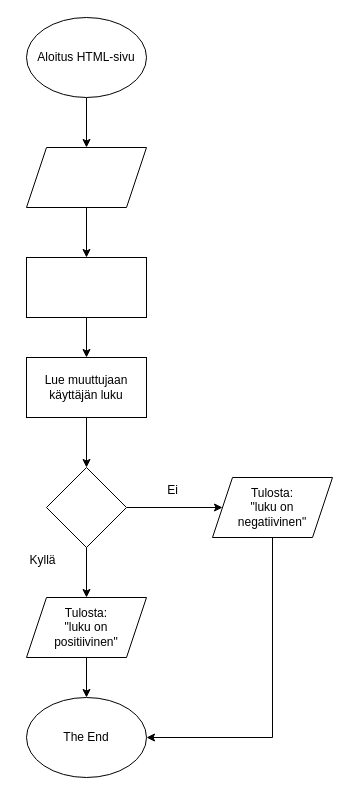
Some shapes in this 350 by 795 pixel diagram are drawn without their labels. Here are the shapes that lost their labels. From the top down, the centre of each, then its label:
At (x=86, y=177): "Pyydä käyttäjältä luku".
At (x=86, y=287): "Luo muuttuja".
At (x=86, y=507): "onko muuttuja >=0".
